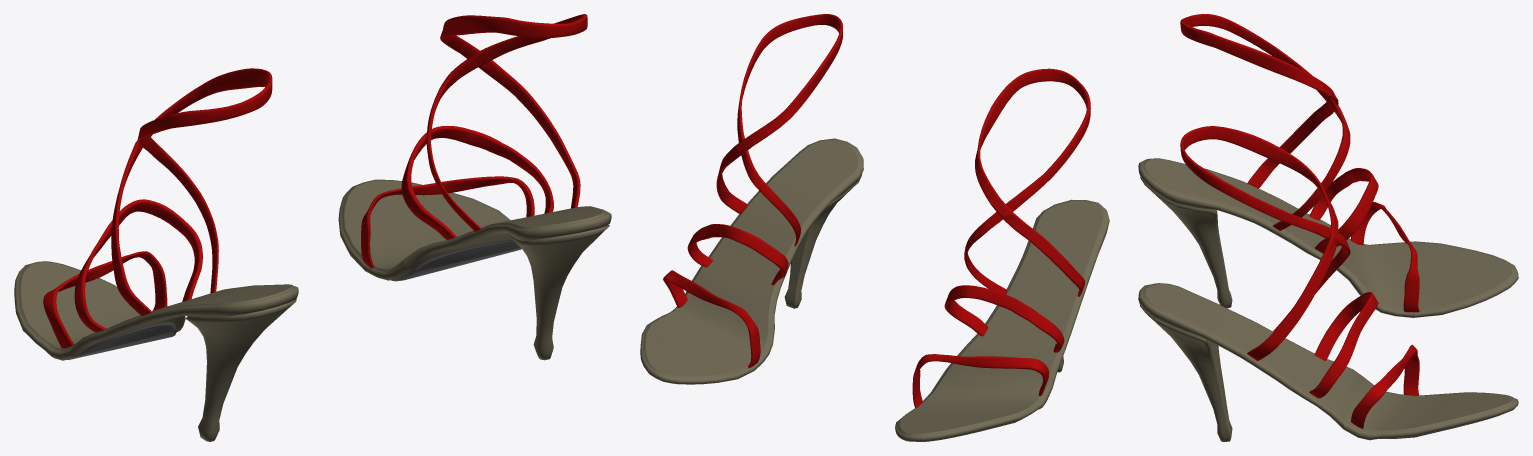
The model's file is women sandel 2.fbx.
The picture shows the model from 3 angles, left to right: view 1: azimuth 30°, elevation 25°; view 2: azimuth 150°, elevation 25°; view 3: azimuth 270°, elevation 25°; orthographic projection. The views are drawn at different scales.
Parts seen in each view (by area): view 1: rToe.002, rToe, rShin.000, rShin.001, rToe.003, rToe.001; view 2: rToe.002, rToe, rShin.001, rShin.000; view 3: rToe.002, rToe, rShin.000, rShin.001.
Boxes of the visible parts, box(x1,y1,x2,y2) form: rToe.002: box(338, 179, 611, 360); rToe: box(14, 261, 298, 441); rShin.000: box(361, 14, 587, 268); rShin.001: box(43, 68, 272, 348); rToe.003: box(390, 240, 521, 281); rToe.001: box(65, 321, 176, 360); rToe.002: box(640, 138, 863, 384); rToe: box(895, 199, 1109, 441); rShin.001: box(912, 68, 1090, 407); rShin.000: box(663, 14, 842, 368); rToe.002: box(1138, 283, 1518, 441); rToe: box(1138, 158, 1518, 317); rShin.000: box(1180, 126, 1419, 428); rShin.001: box(1180, 14, 1419, 312).
Bounding box in the file's own units: 147 × 105 × 122.
